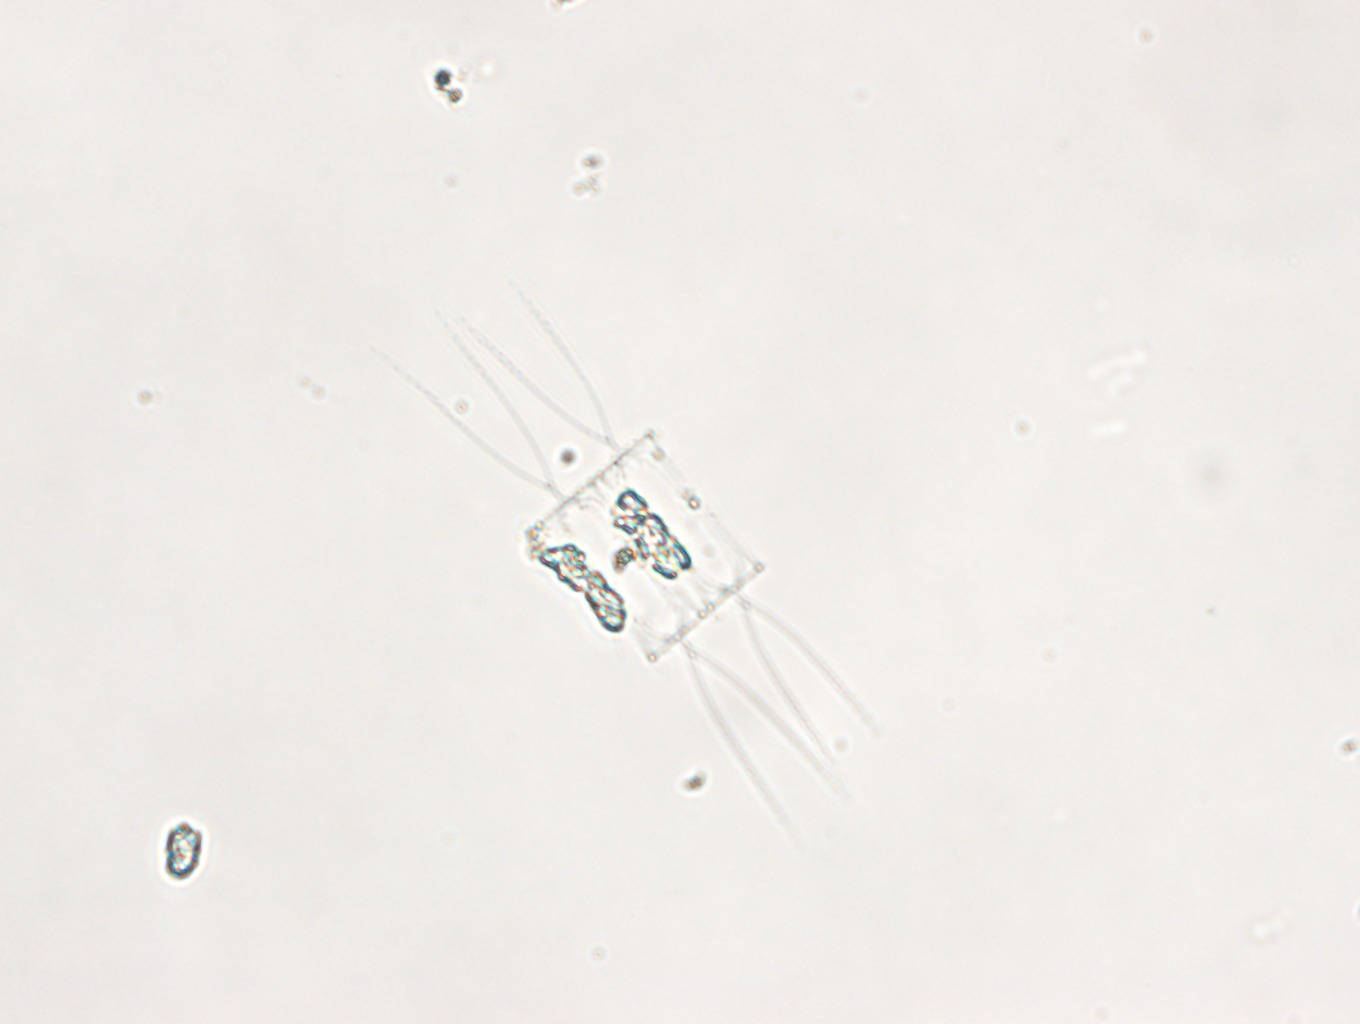chaetoceros: (380, 278, 885, 819)
